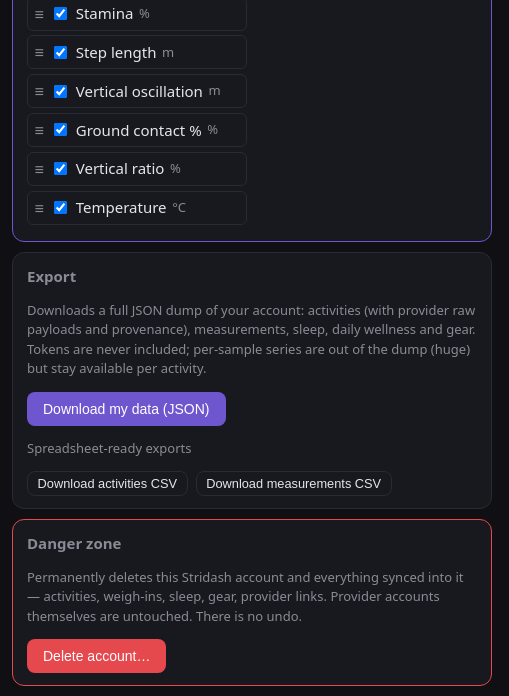
Test: SettingsSection › downloads activities CSV with the CSV endpoint
(page scrolled)
Click the button "Download activities CSV". click: (107, 484)
box: x1=27 y1=471 x2=188 y2=496
(page scrolled)
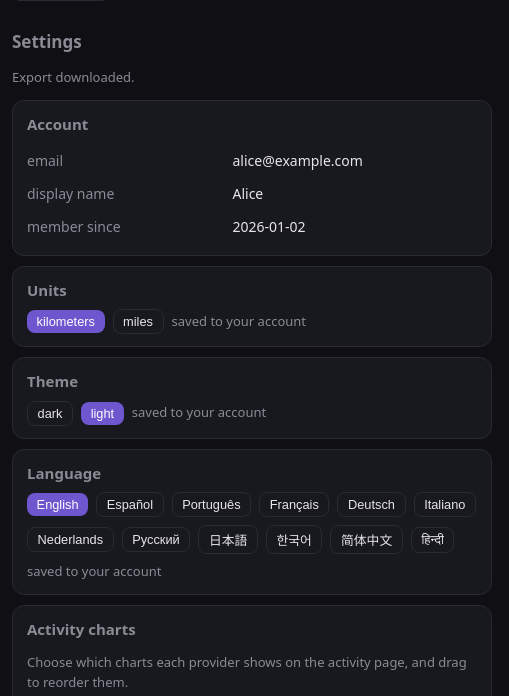
Expected: the text "Export downloaded." is shown, x1=12 y1=68 x2=135 y2=86
